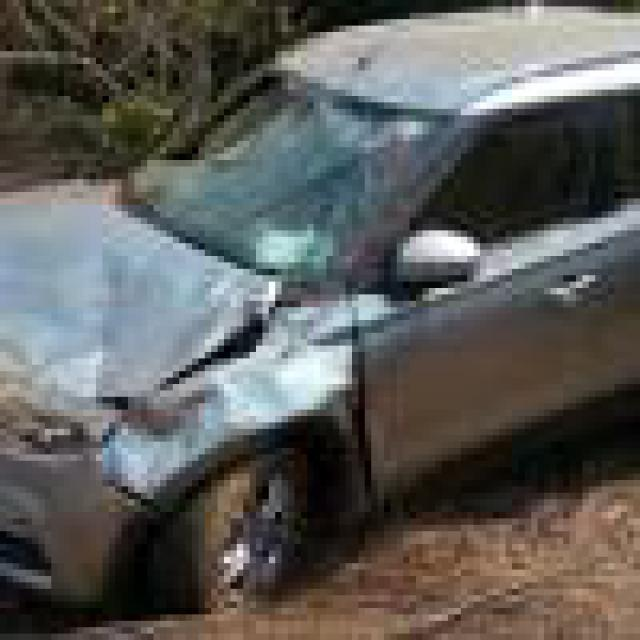Front-Windscreen-Damage: (134, 51, 448, 275)
bonnet-dent: (0, 186, 269, 384)
fender-dent: (134, 300, 358, 538)
